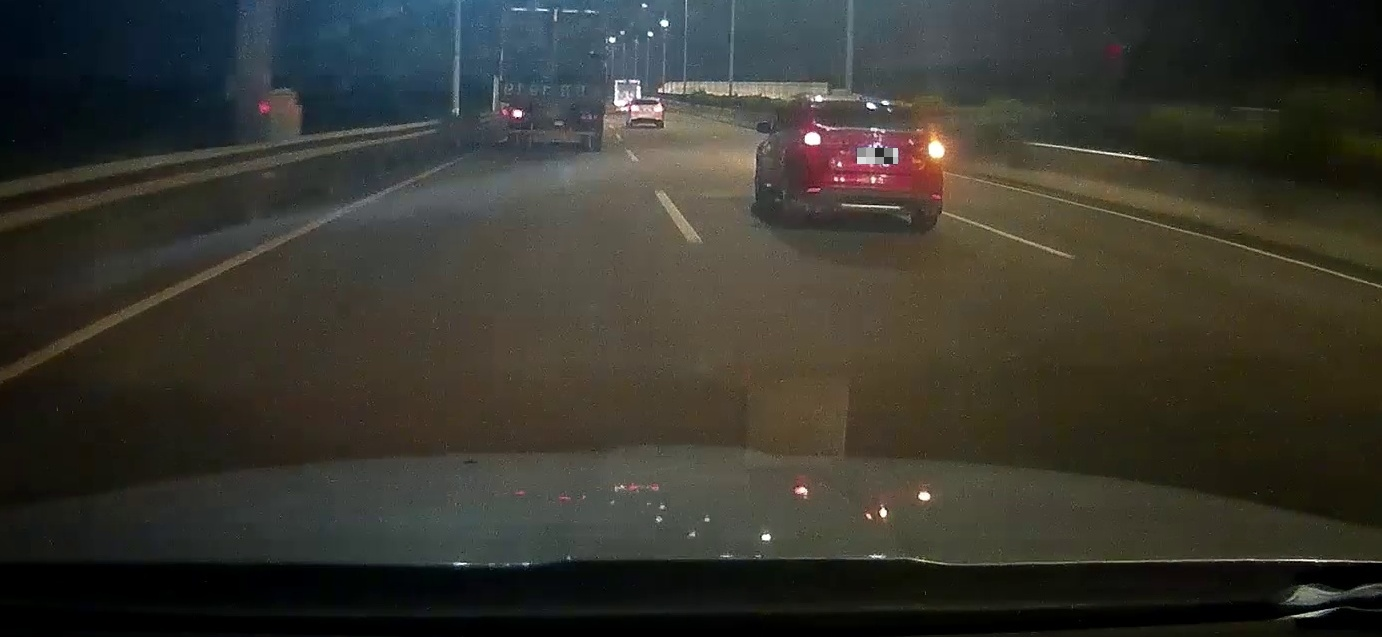L_light: (803, 131, 828, 150), (509, 110, 528, 118)
R_light: (919, 138, 944, 158), (581, 112, 600, 120)
T_light: (856, 101, 885, 109), (541, 11, 565, 17)
night-left: (499, 6, 605, 150)
night-right: (794, 95, 945, 228)
plate_1: (857, 148, 898, 164)
